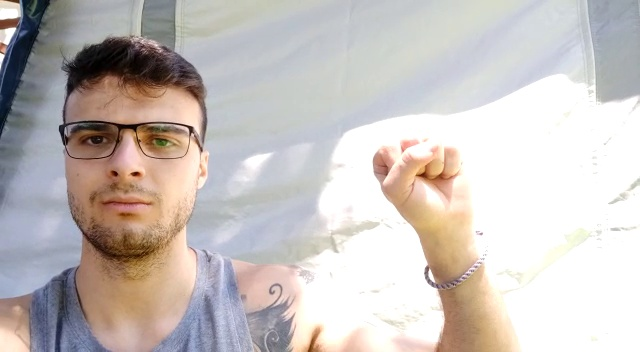Fist: (367, 131, 486, 229)
